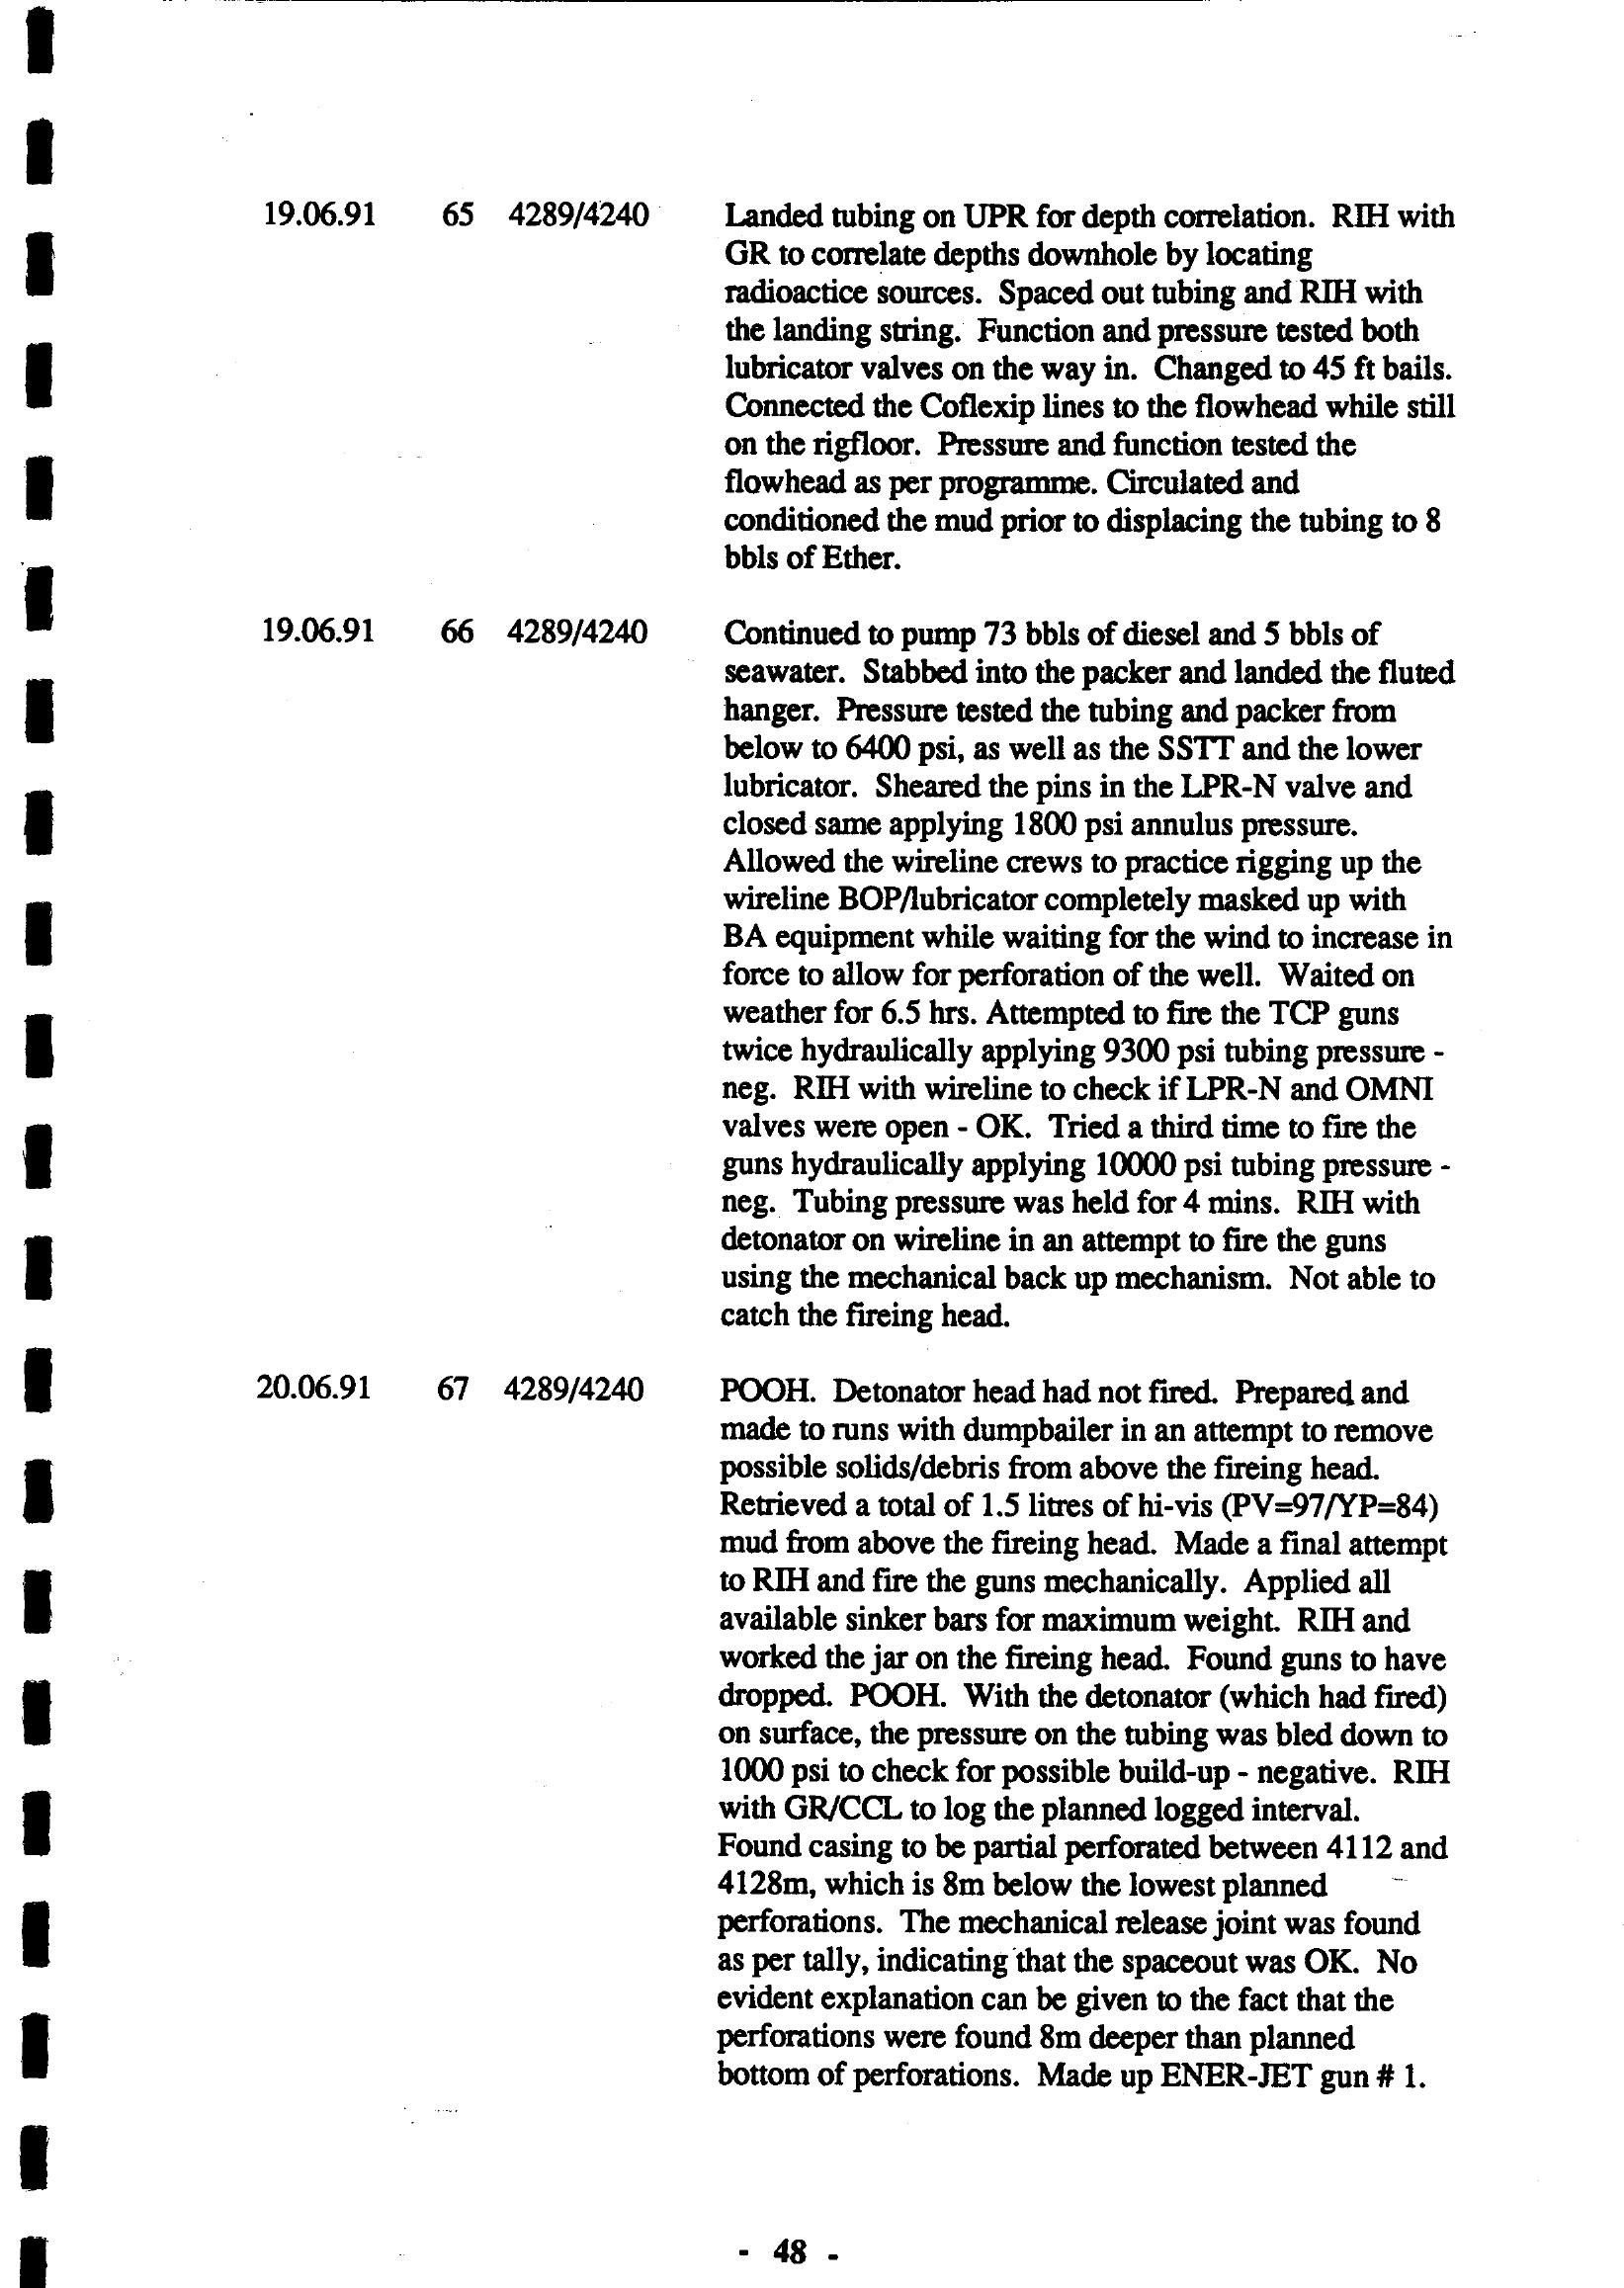text: (227, 146, 1476, 2170)
